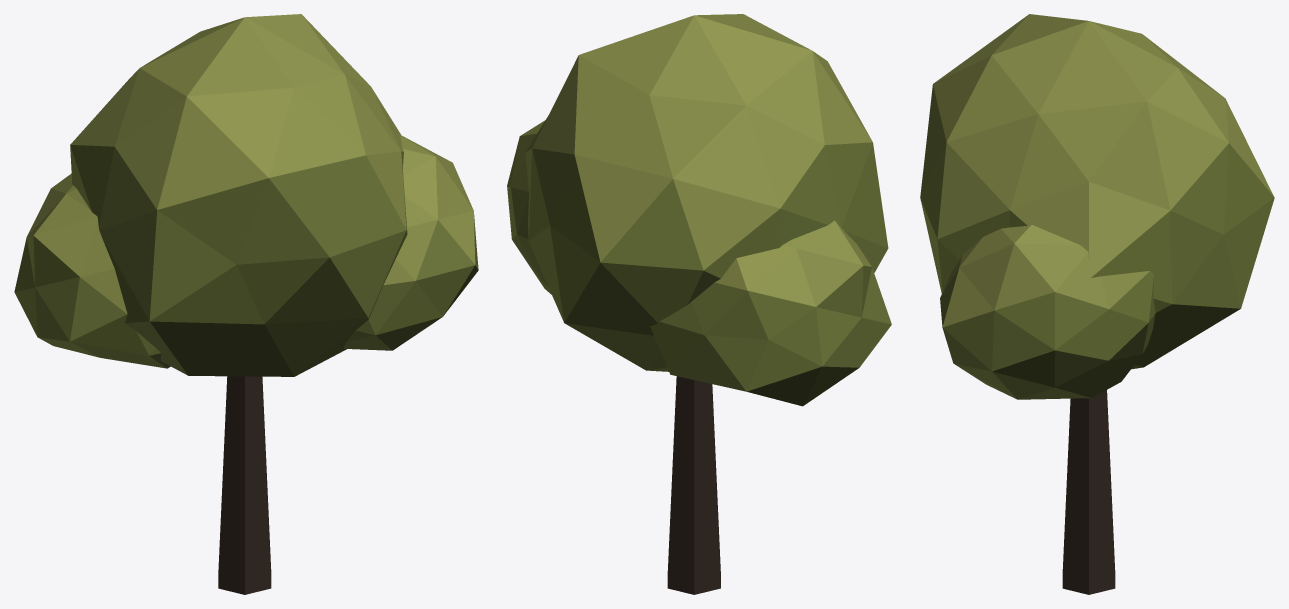
Rendered from maple.glb.
3 views of the same model, side by side, from view 1: azimuth 30°, elevation 25°; view 2: azimuth 150°, elevation 25°; view 3: azimuth 270°, elevation 25° (orthographic).
Visible parts, largest first — view 1: maple; view 2: maple; view 3: maple.
Boxes of the visible parts, <box> form: maple: <box>14,14,478,594</box>; maple: <box>507,14,891,594</box>; maple: <box>920,14,1274,594</box>.
Size of the model in its own units: 5.33 by 7.3 by 4.18.
